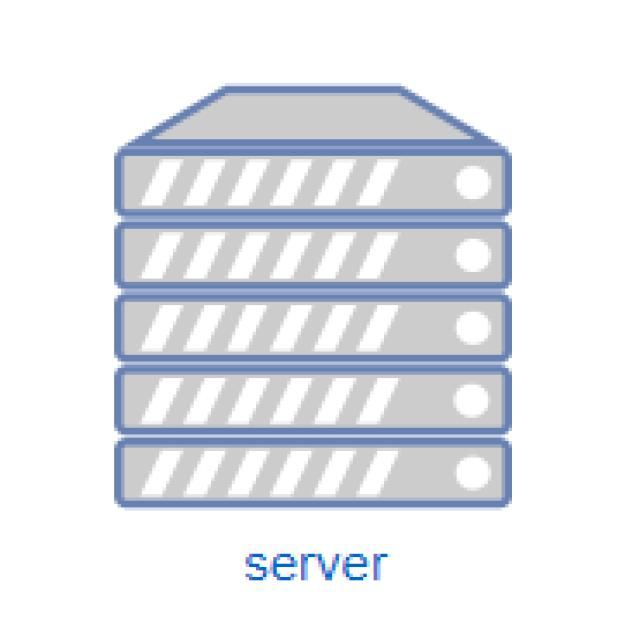Server: (65, 63, 568, 536)
